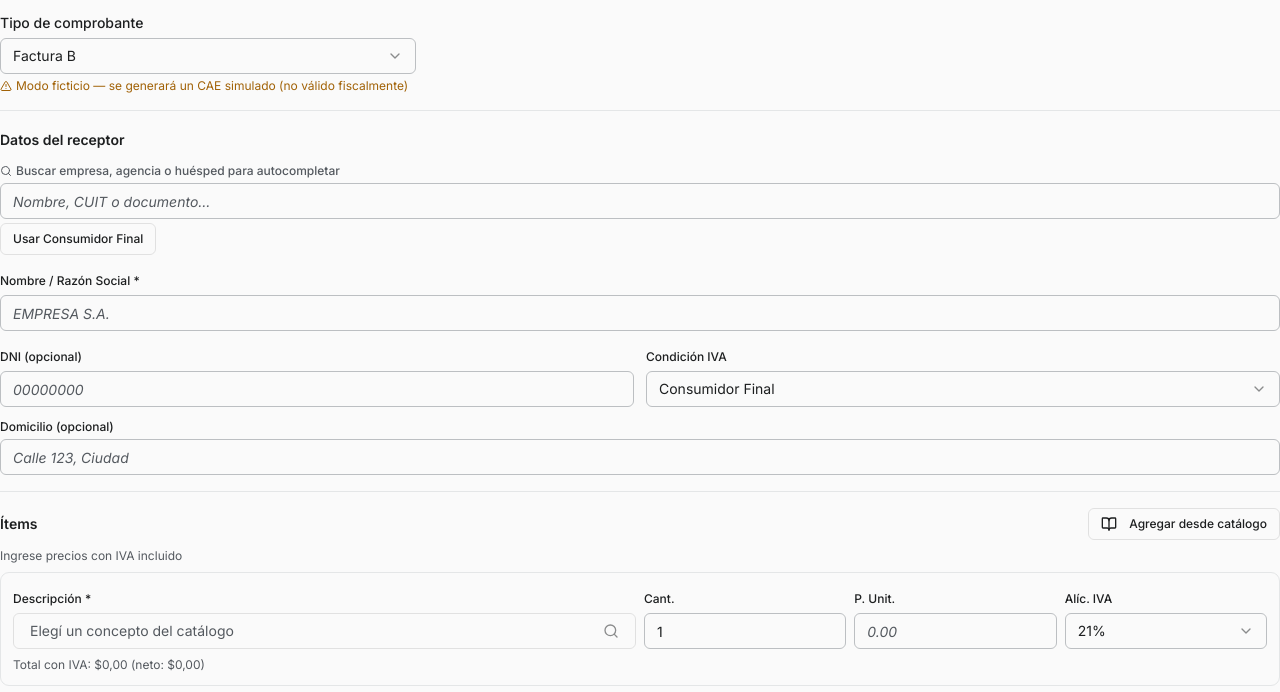
EmitirFacturaDialog — buscador de catálogo inline por renglón › cambiar el concepto de una fila ya cargada la reemplaza en el lugar, sin tocar otras filas
The image size is (1280, 692).
# Cargar dos filas distintas primero.
Click the dropdown with test id "item-description-0": (132, 630) [13, 613, 636, 649]
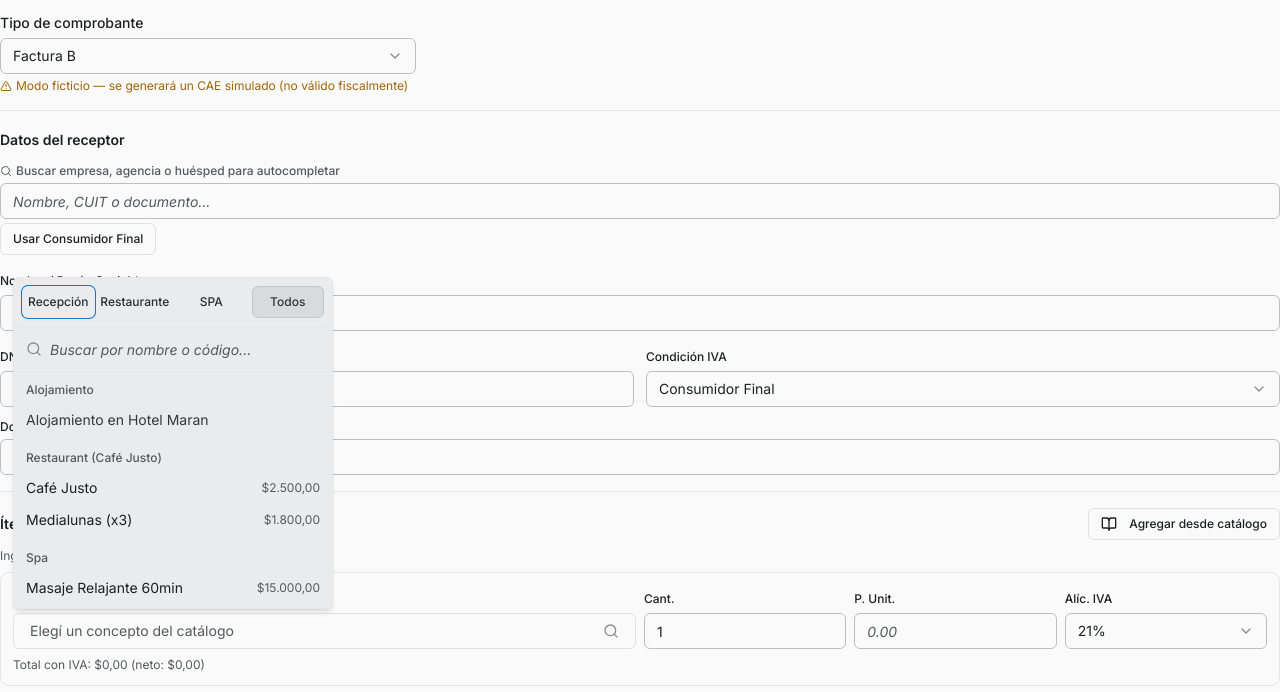
Click the option with test id "item-catalog-option-0-mi-1": (62, 488) [26, 479, 320, 496]
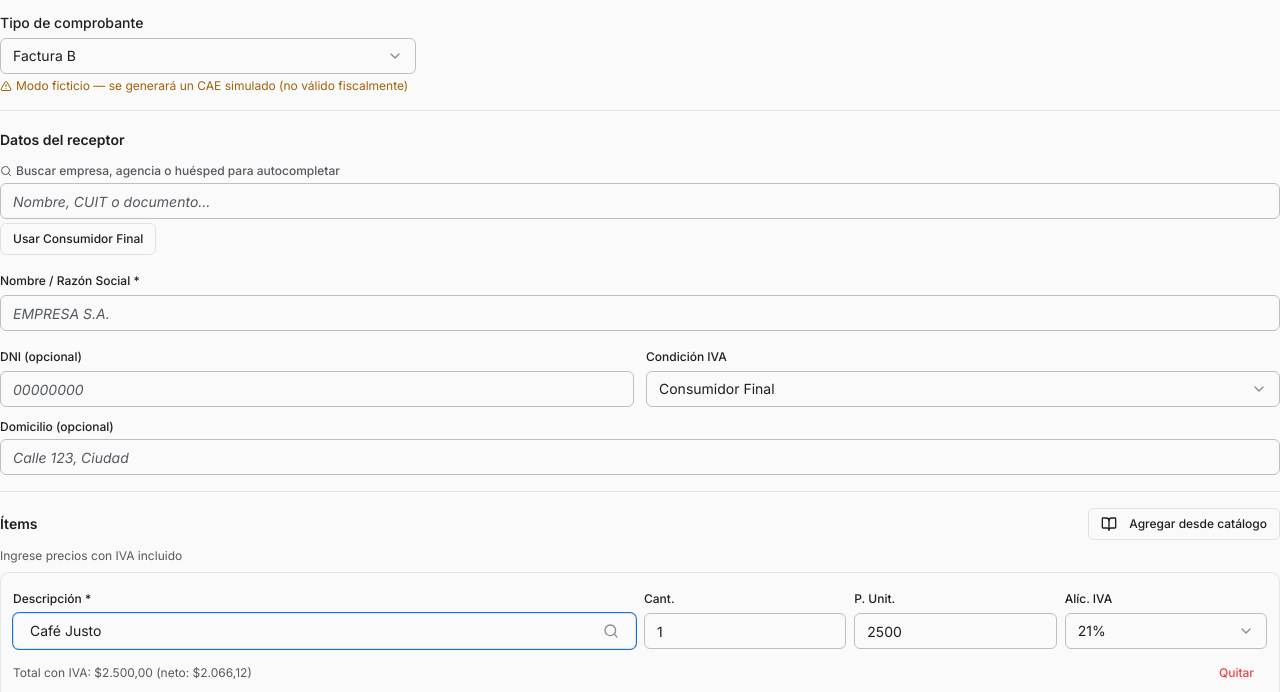
Click the button with test id "btn-add-item-from-catalog": (1184, 524) [1088, 508, 1279, 540]
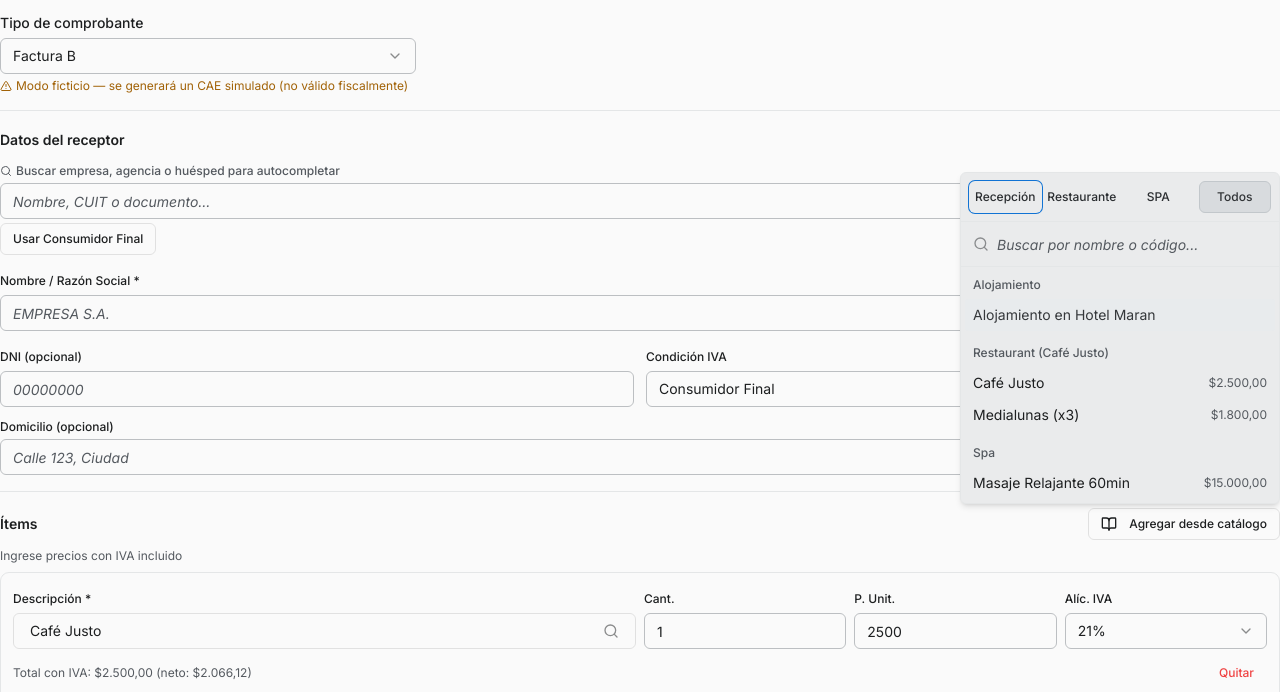
Click the option with test id "catalog-item-tr-1": (1120, 482) [973, 474, 1267, 491]
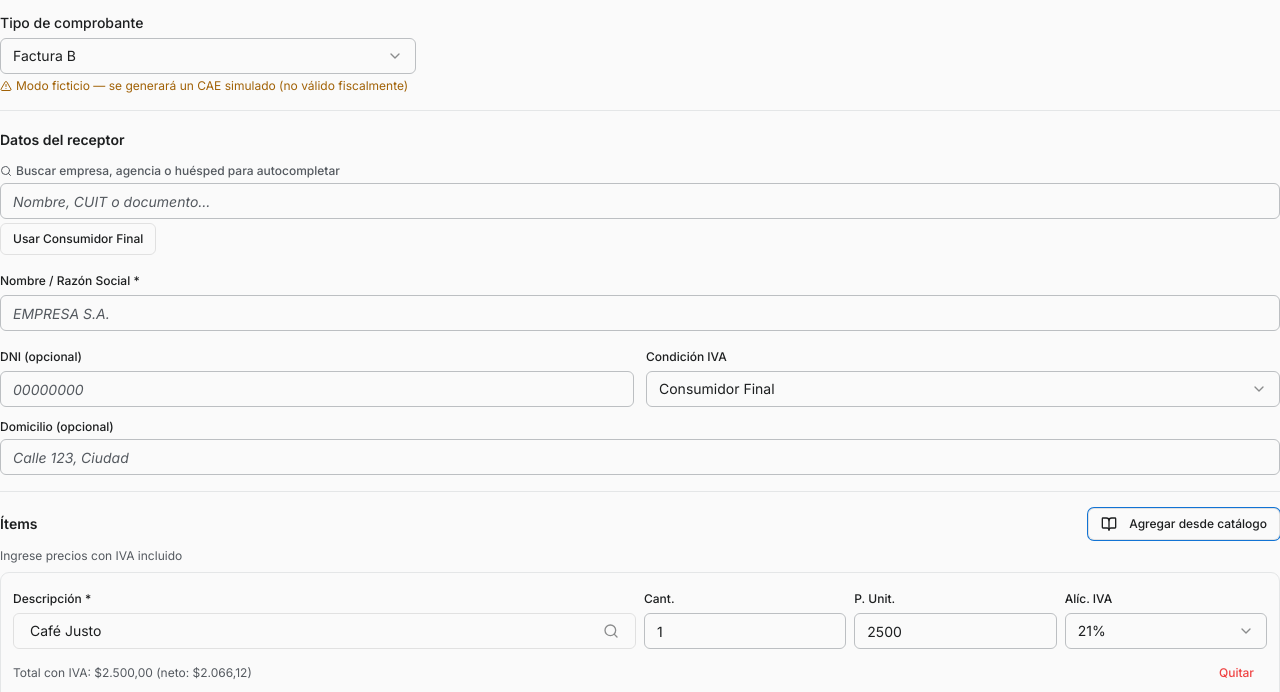
expect the dropdown with test id "item-description-0" reads "Café Justo": met
Click the dropdown with test id "item-description-0": (66, 630) [13, 613, 636, 649]
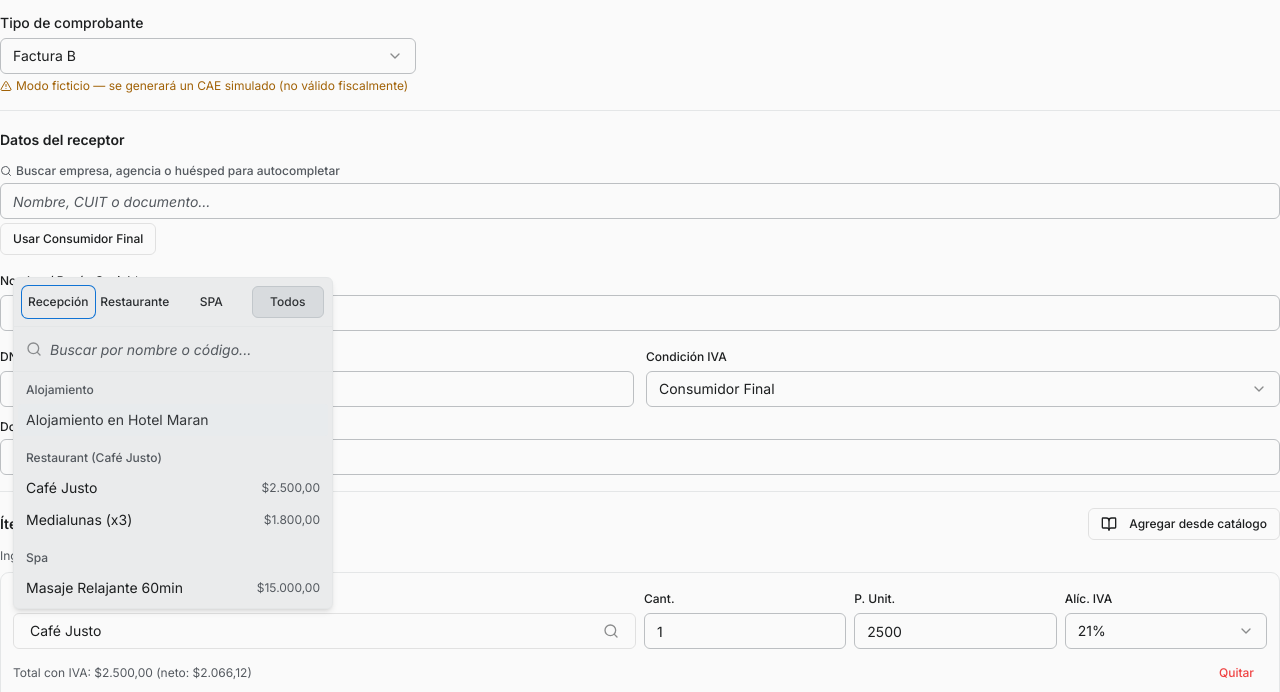
Click the option with test id "item-catalog-option-0-mi-2": (79, 520) [26, 511, 320, 528]
(page scrolled)
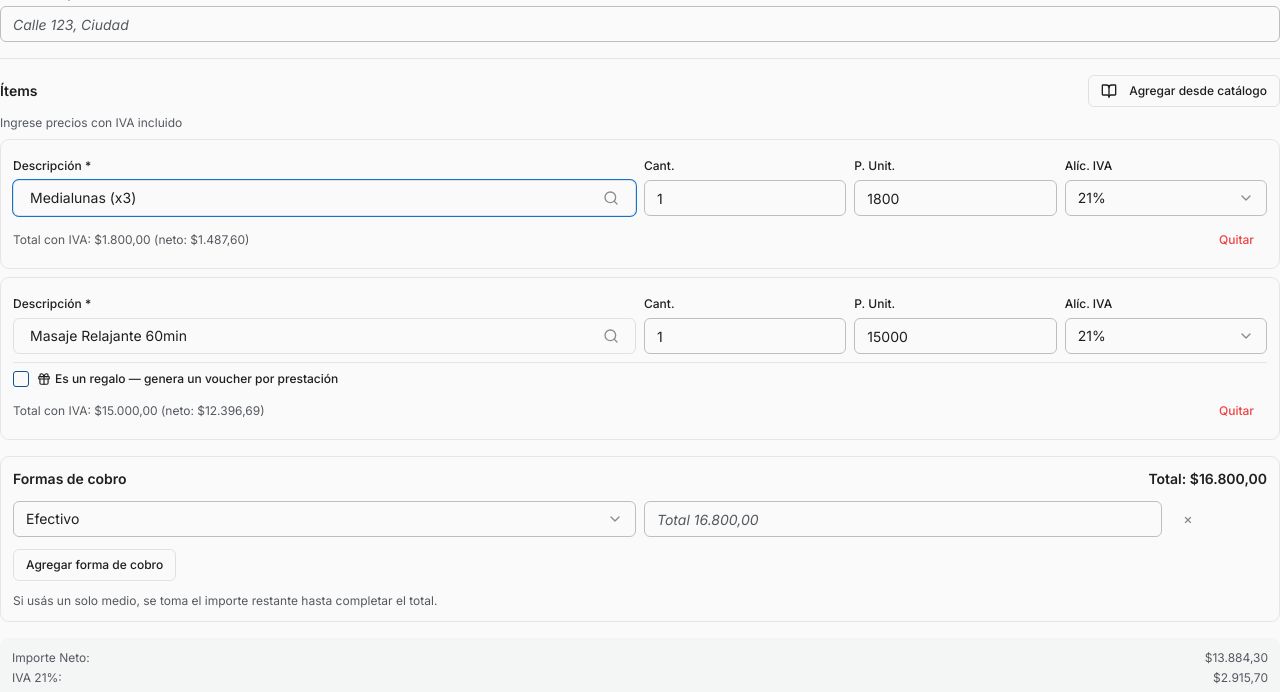
expect the dropdown with test id "item-description-1" reads "Masaje Relajante 60min": met, box [13, 318, 636, 354]
expect the dropdown with test id "item-description-0" reads "Medialunas (x3)": met, box [13, 180, 636, 216]
